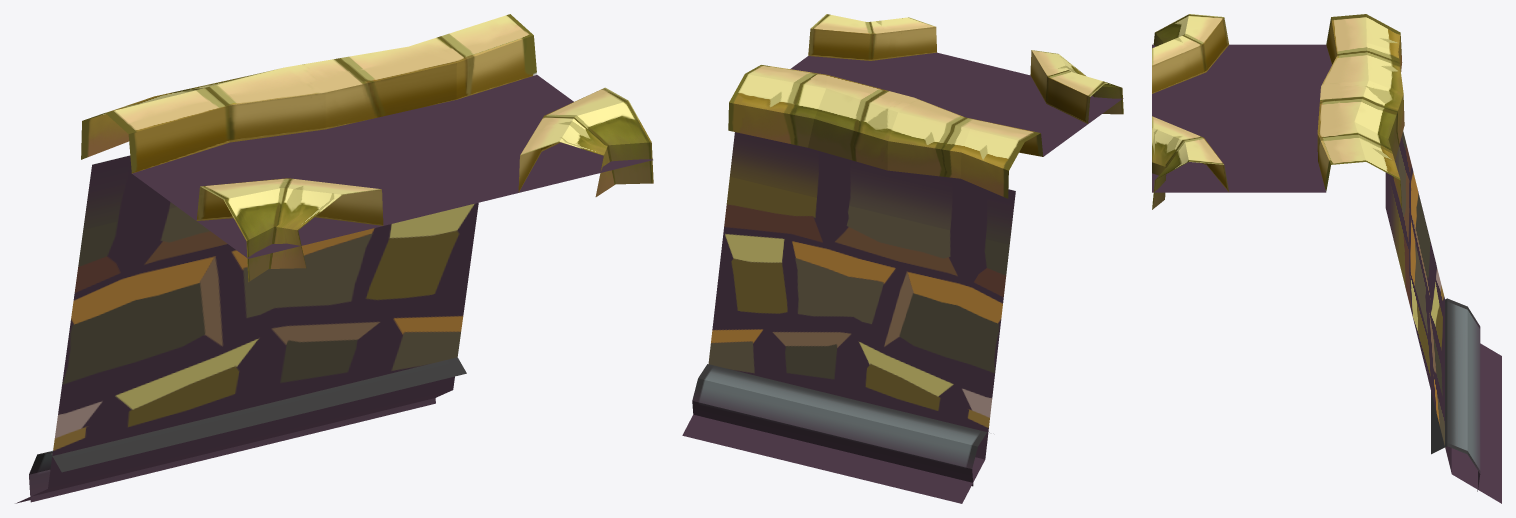
File: Int_42.fbx
3 views of the same model, side by side, from view 1: azimuth 30°, elevation 25°; view 2: azimuth 150°, elevation 25°; view 3: azimuth 270°, elevation 25° (orthographic). The views are drawn at different scales.
Visible parts, largest first — view 1: Int_42; view 2: Int_42; view 3: Int_42.
Boxes of the visible parts, <box> form: Int_42: <box>15,14,653,503</box>; Int_42: <box>682,14,1123,503</box>; Int_42: <box>1152,14,1501,503</box>.
Bounding box in the file's own units: 1 × 1.08 × 1.
